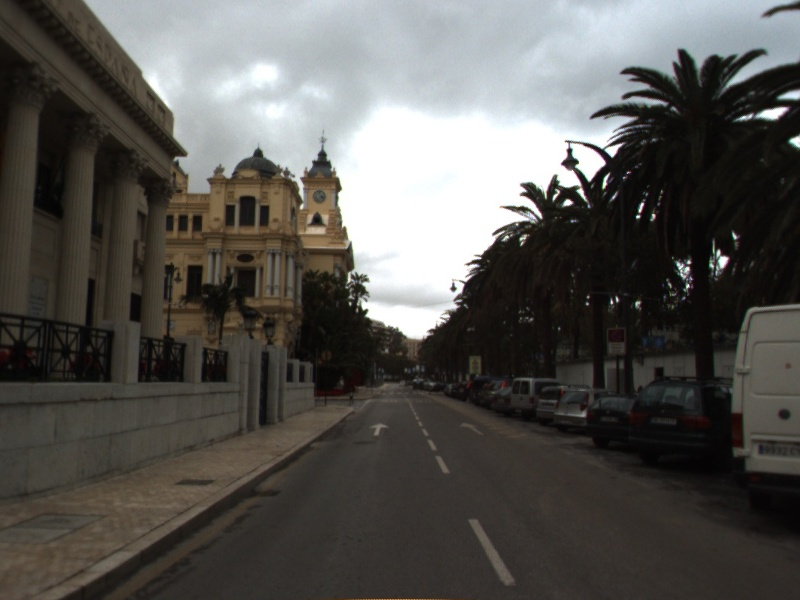STRAIGHT: (458, 420, 486, 437), (368, 421, 391, 438)
